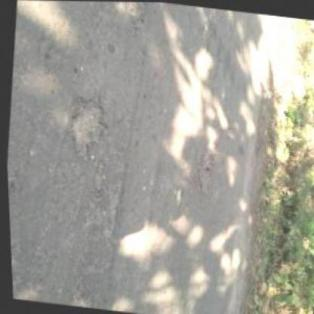Hueco: (61, 92, 110, 160), (189, 149, 216, 193)
